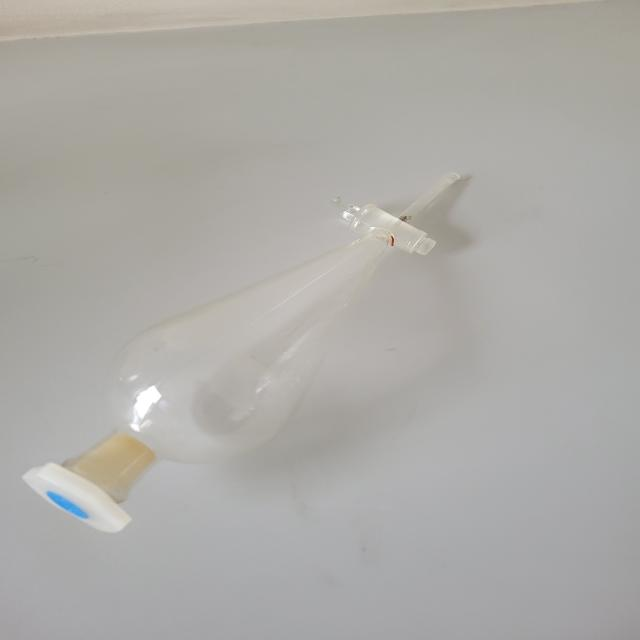Separating_Funnel: (5, 151, 485, 569)
